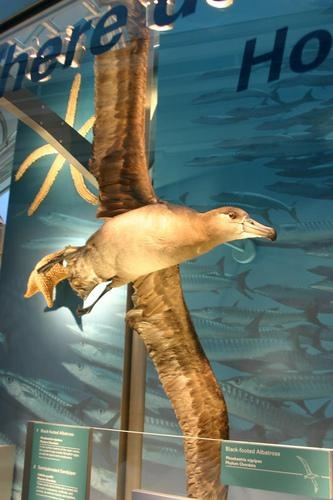bird: (38, 1, 279, 500)
